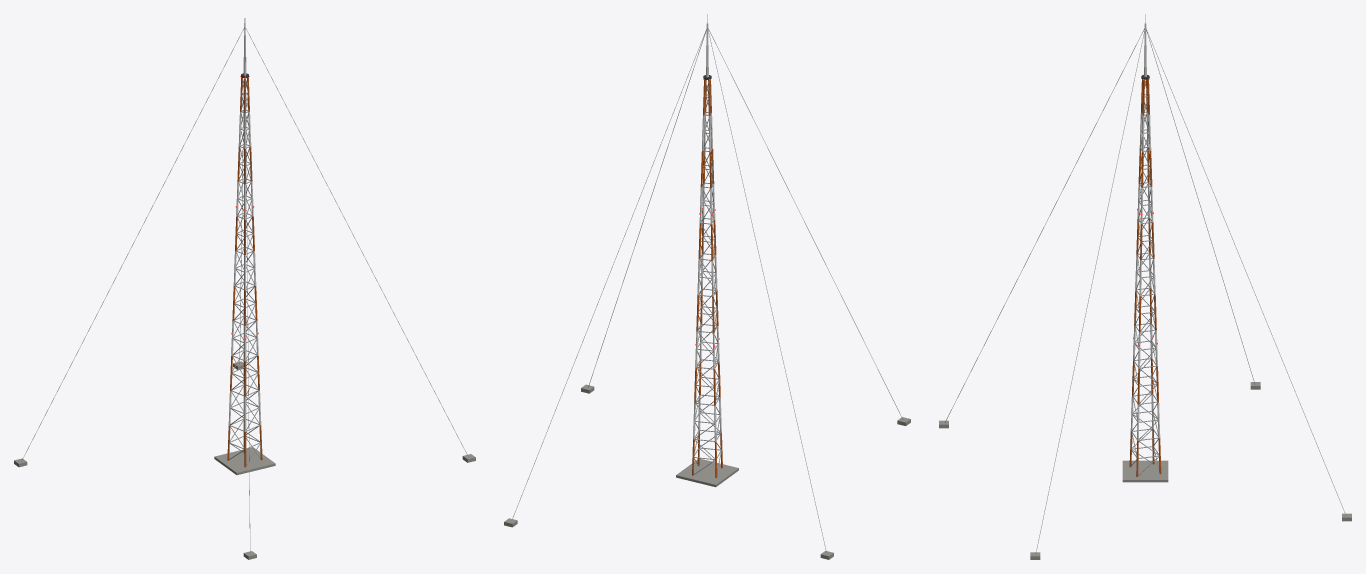
File: EA11_lightning_mast_150m.glb
The picture shows the model from 3 angles, left to right: view 1: azimuth 30°, elevation 25°; view 2: azimuth 150°, elevation 25°; view 3: azimuth 270°, elevation 25°; orthographic projection. The views are drawn at different scales.
Parts seen in each view (by area): view 1: foundation; view 2: catenary_wire (×2), foundation; view 3: catenary_wire (×2), foundation.
Boxes of the visible parts, <box> form: foundation: <box>214,447,275,475</box>; catenary_wire (×2): <box>511,28,826,552</box>; foundation: <box>676,458,738,487</box>; catenary_wire (×2): <box>1035,28,1345,553</box>; foundation: <box>1122,460,1168,482</box>.
Size of the model in its own units: 126 by 154 by 126.
